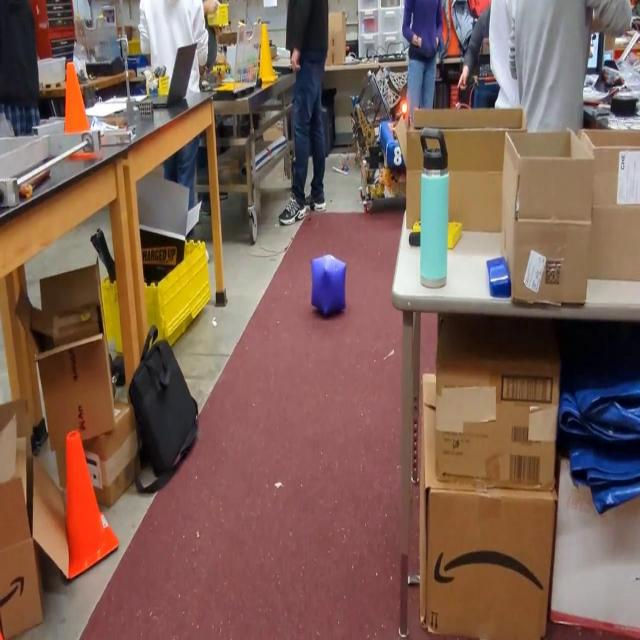frc_cone: (255, 24, 279, 84)
frc_cube: (310, 254, 346, 318)
